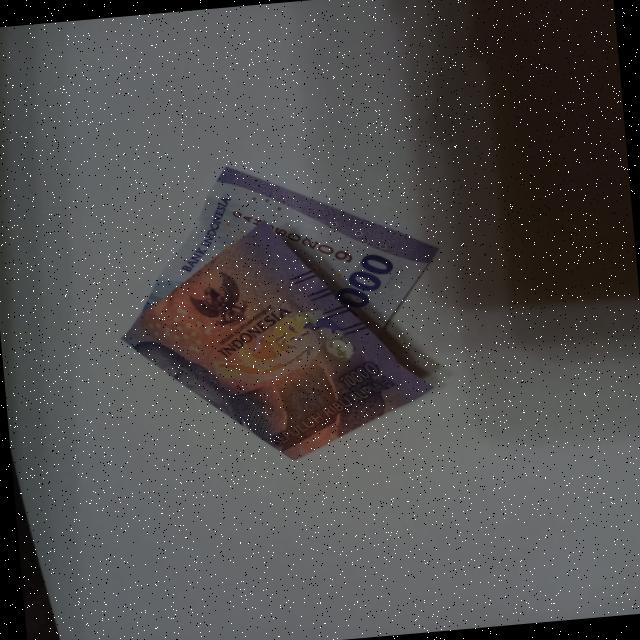10K: (110, 141, 468, 480)
